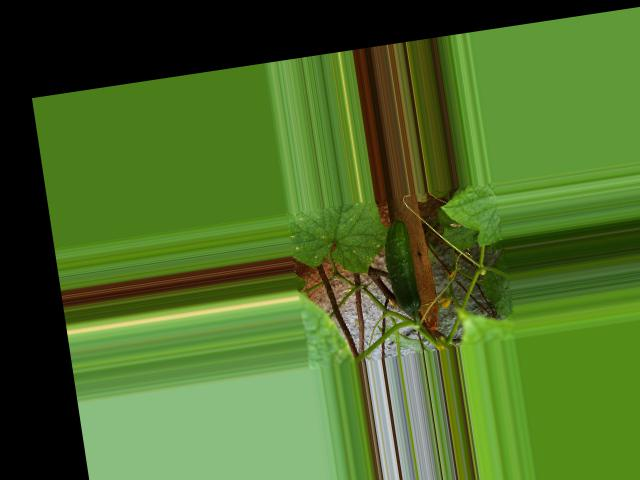cucumber: (380, 217, 423, 315)
